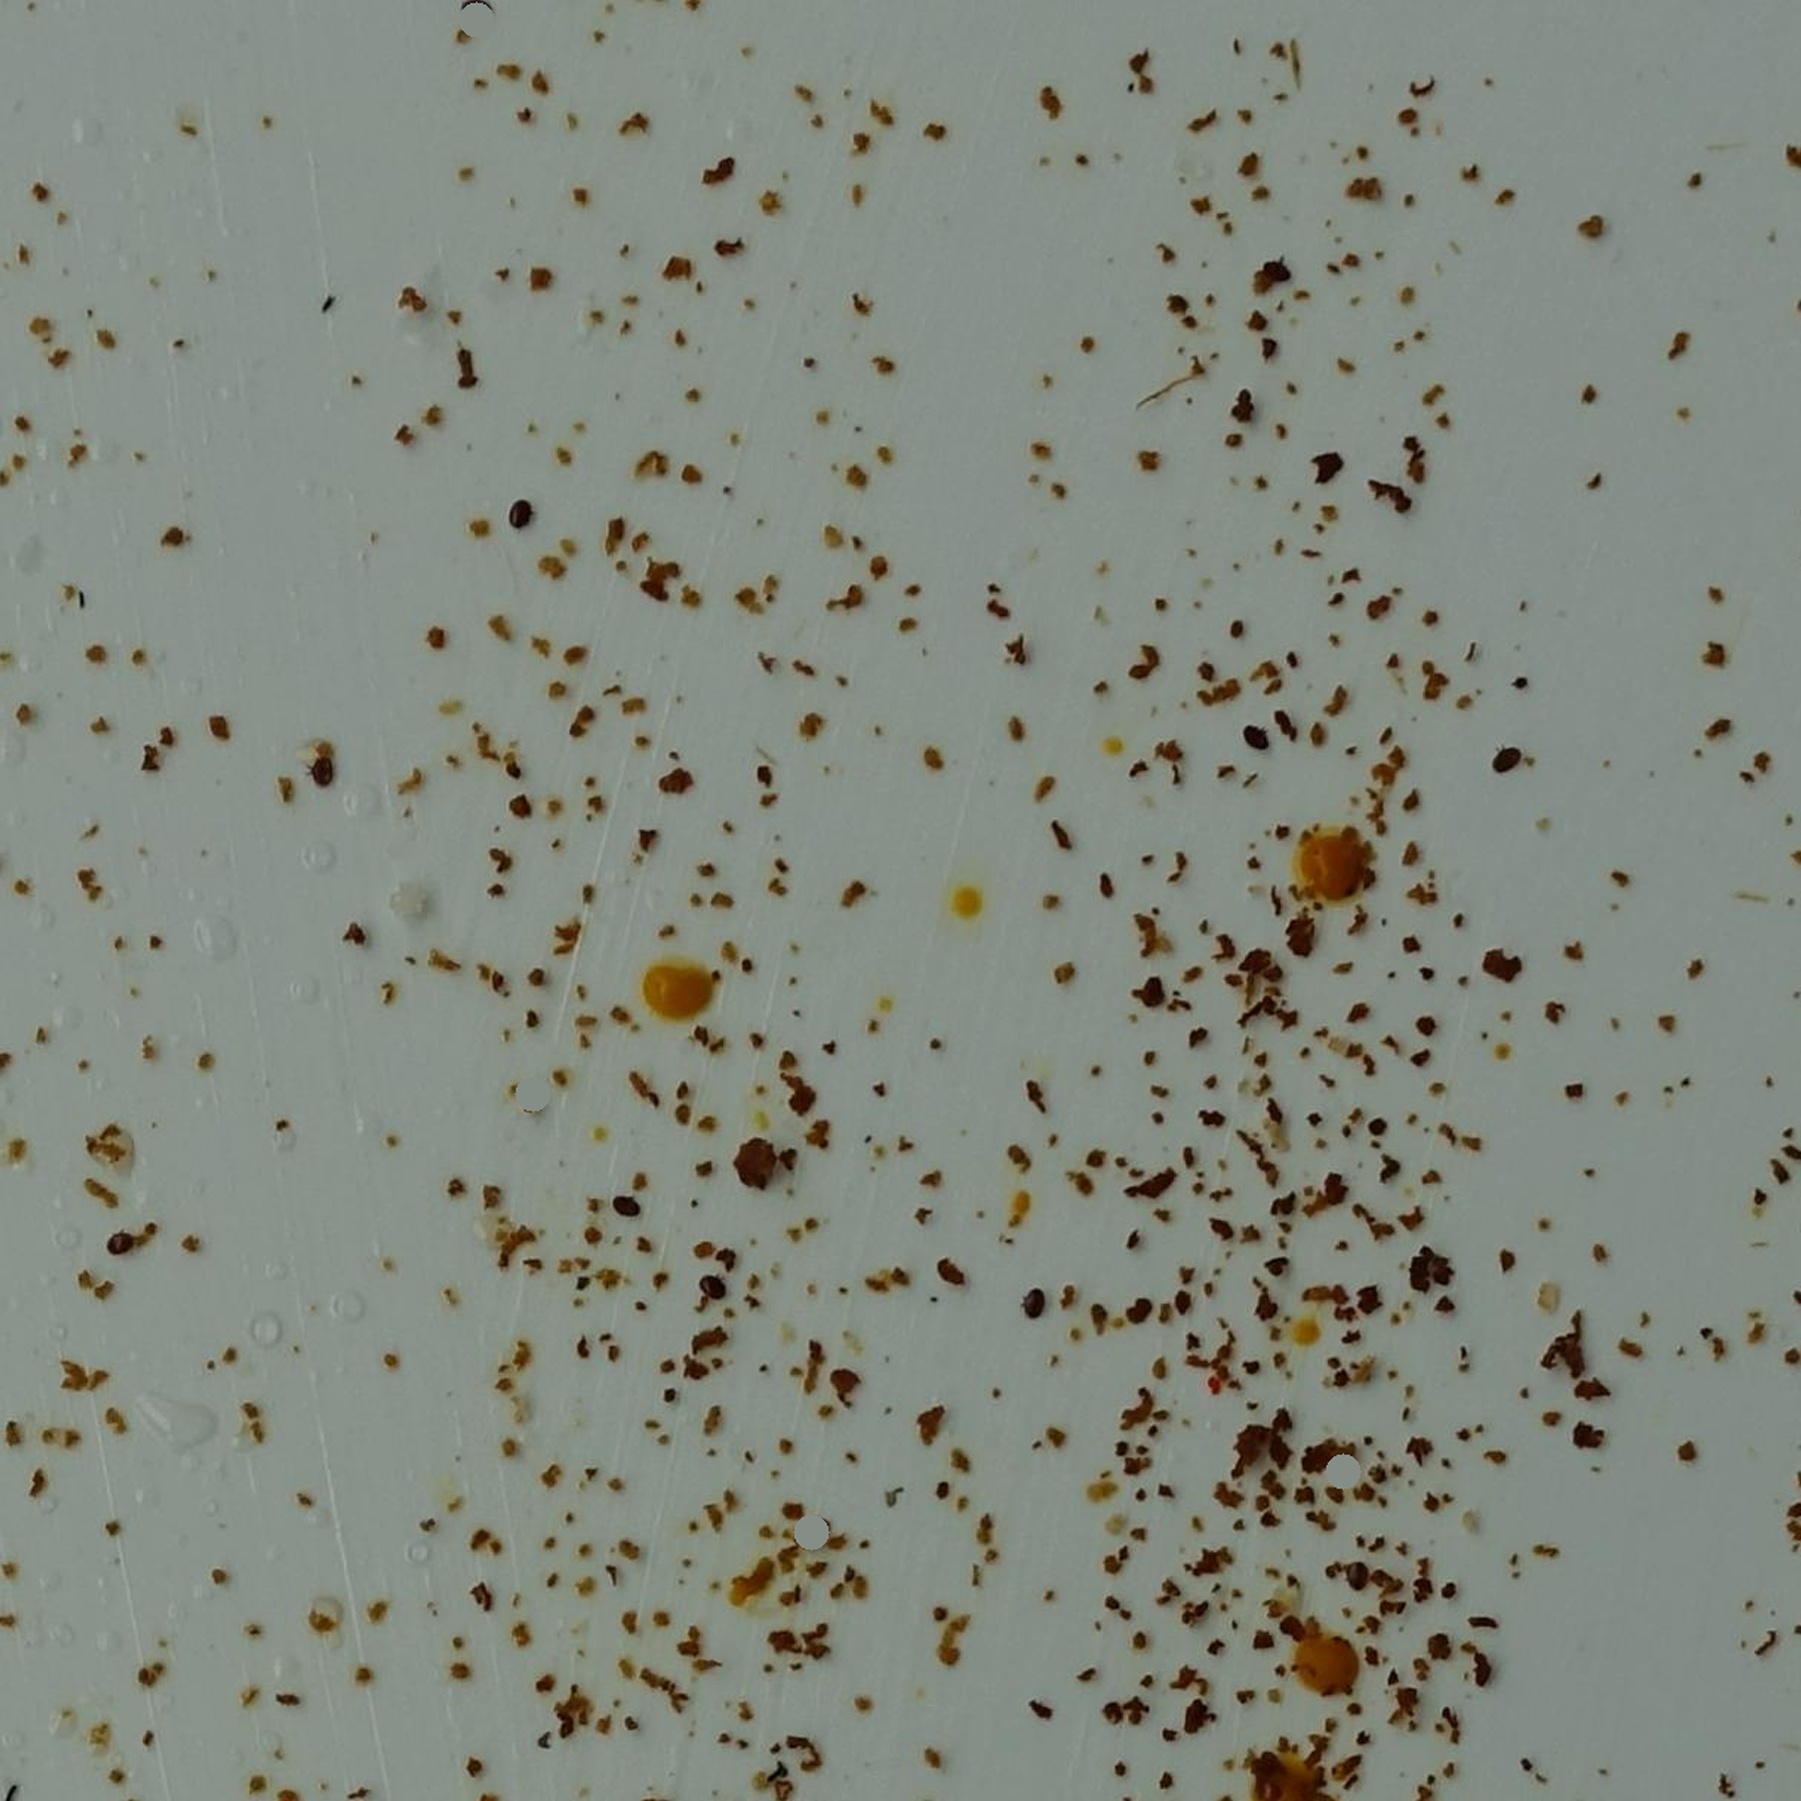Varroa: (1486, 750, 1517, 783), (1343, 1554, 1372, 1583), (1026, 1290, 1056, 1319), (104, 1229, 132, 1257), (506, 506, 531, 533), (308, 760, 333, 787), (1242, 726, 1267, 750), (605, 1201, 630, 1225), (1263, 264, 1286, 289), (699, 1277, 722, 1300), (617, 1187, 638, 1211)
